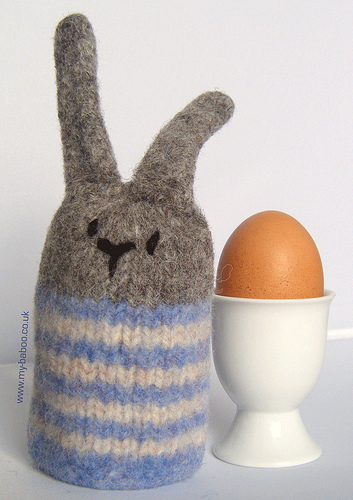egg: (216, 210, 329, 300)
